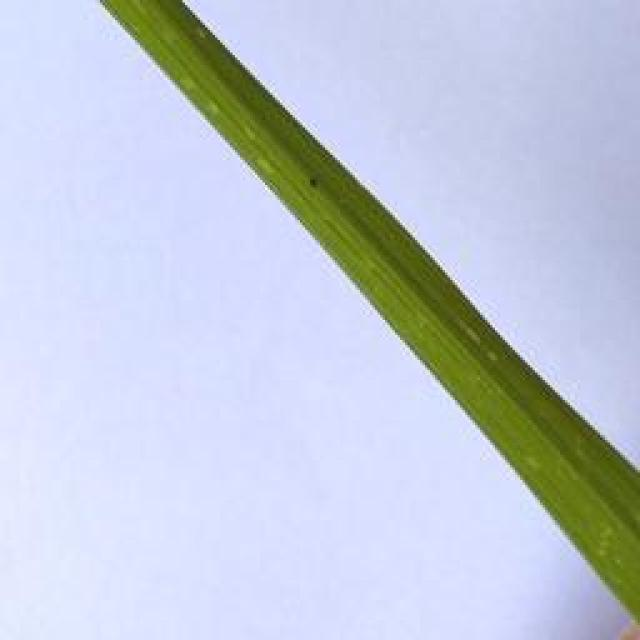Healthy-Plant: (503, 358, 640, 630), (97, 0, 285, 188), (345, 175, 451, 318)
